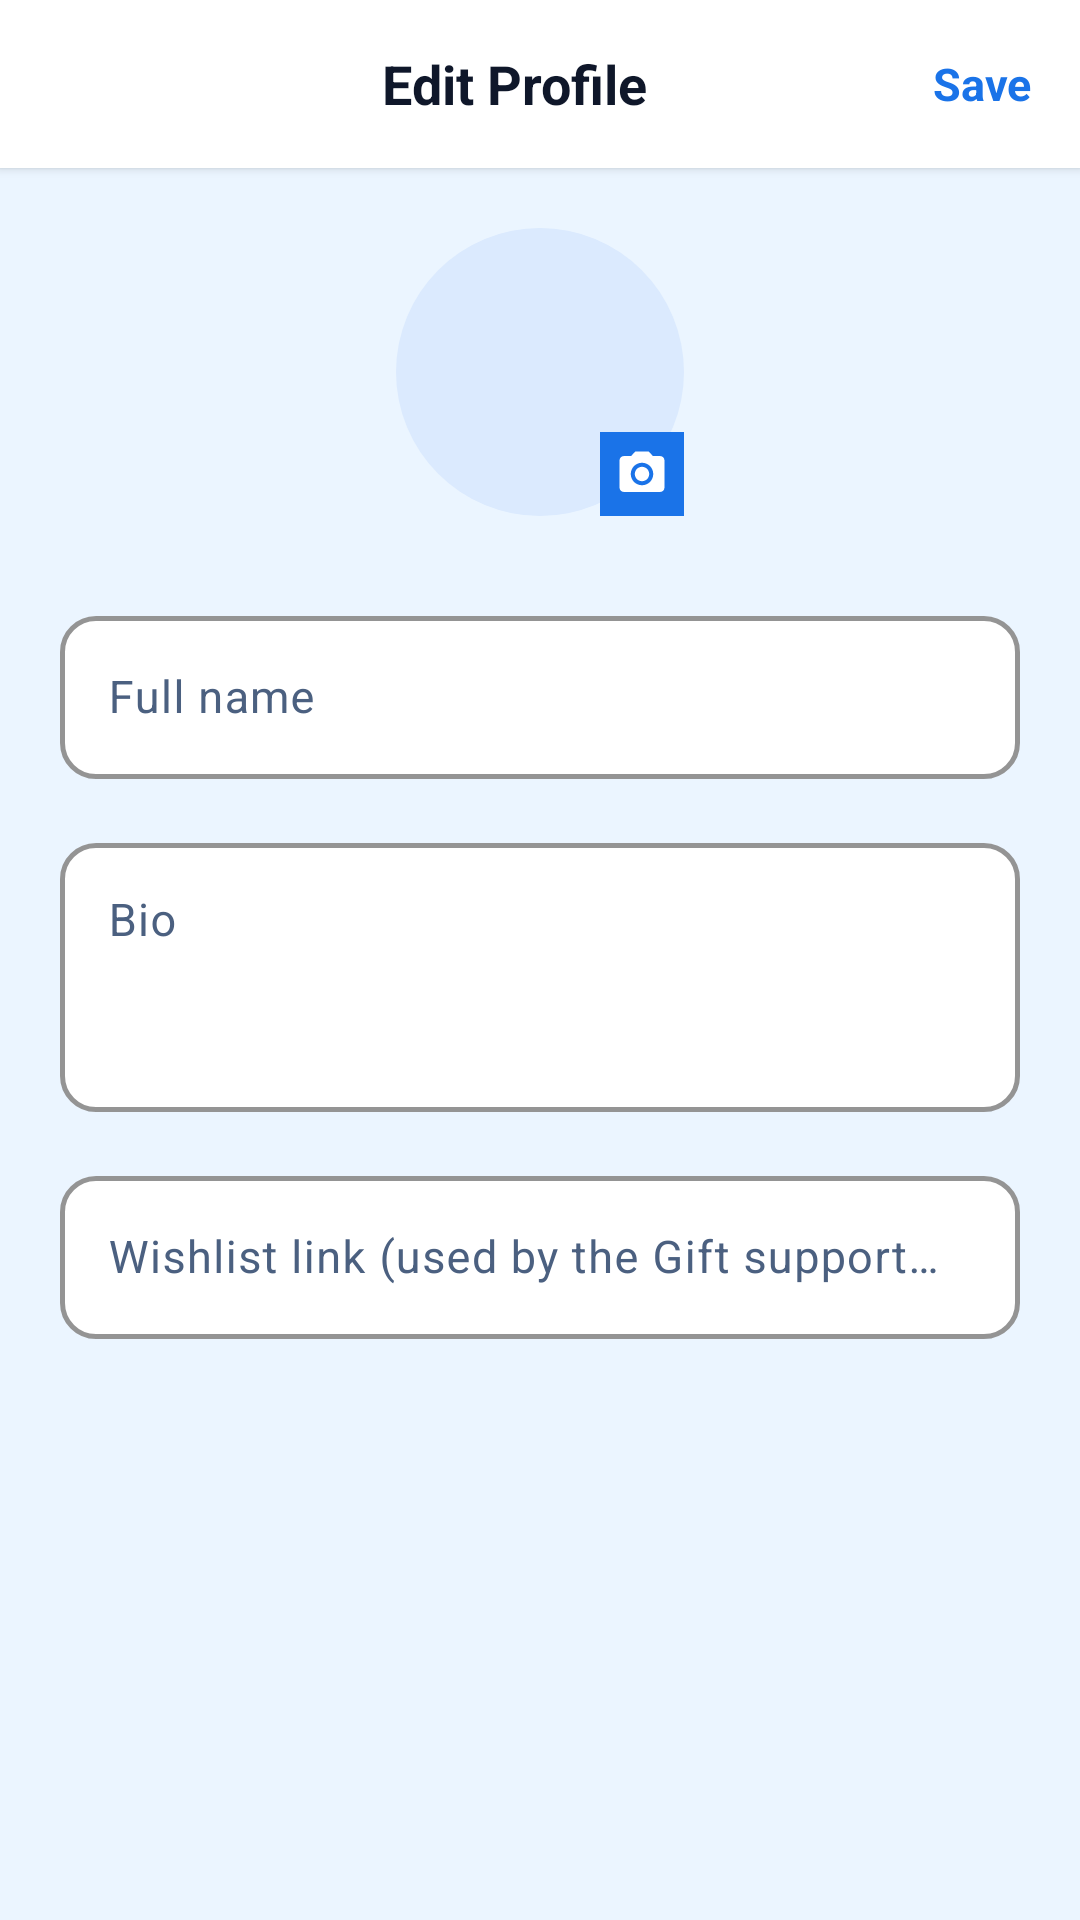

Locate icon controls on the screen. Image size 1080*1920, boxes as BBox(x1, y1, x2, y2).
Change photo: BBox(600, 432, 684, 516)
